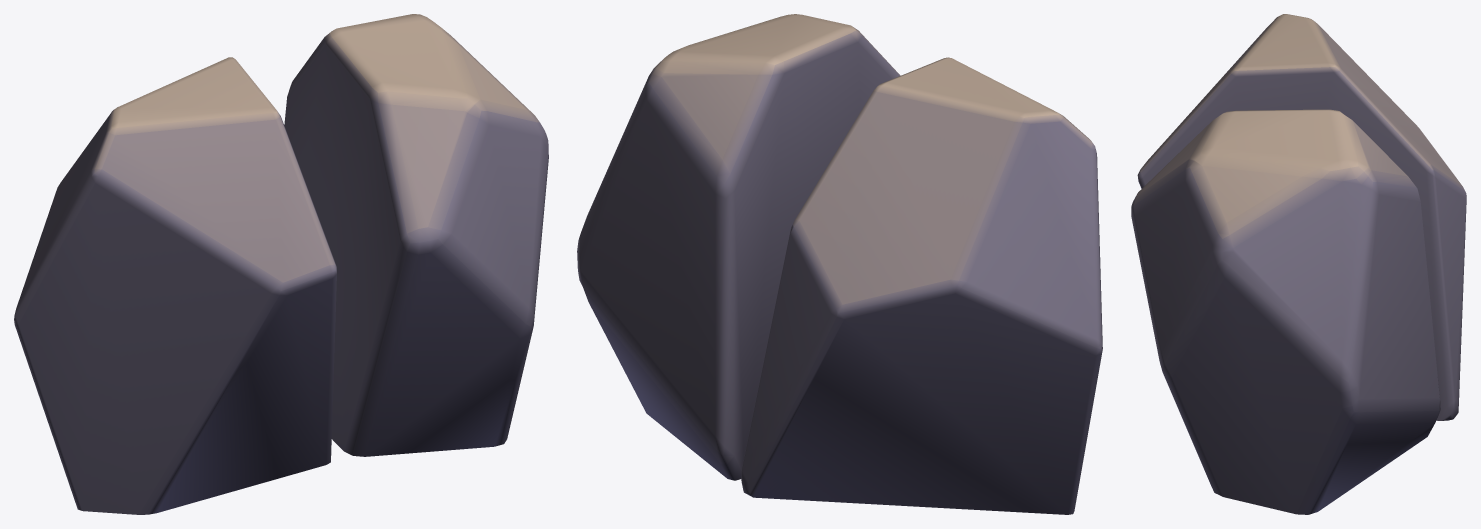
Rendered from Boulder4.fbx.
The picture shows the model from 3 angles, left to right: view 1: azimuth 30°, elevation 25°; view 2: azimuth 150°, elevation 25°; view 3: azimuth 270°, elevation 25°; orthographic projection. The views are drawn at different scales.
Parts seen in each view (by area): view 1: Boulder4; view 2: Boulder4; view 3: Boulder4.
Part boxes in pixels (x1,y1,x2,y2): Boulder4: [14, 14, 548, 514]; Boulder4: [577, 14, 1102, 514]; Boulder4: [1131, 14, 1466, 514].
Size of the model in its own units: 1.8 by 1.34 by 1.17.
